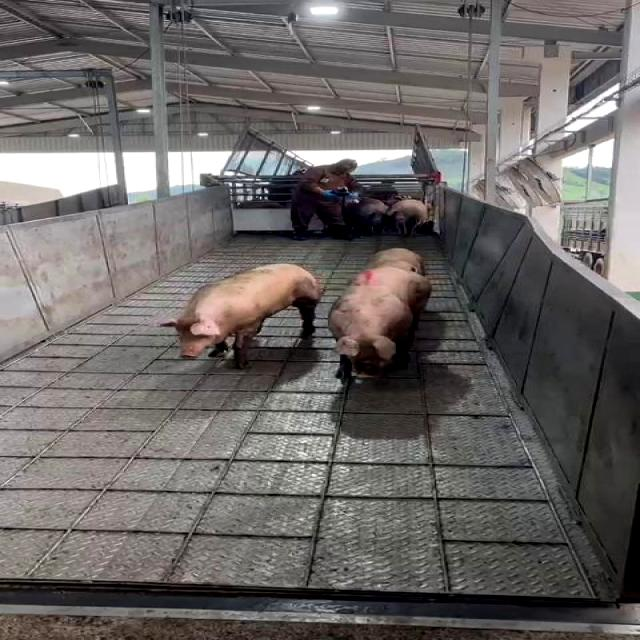pig: (162, 264, 321, 366), (329, 268, 430, 375), (368, 249, 423, 275)
